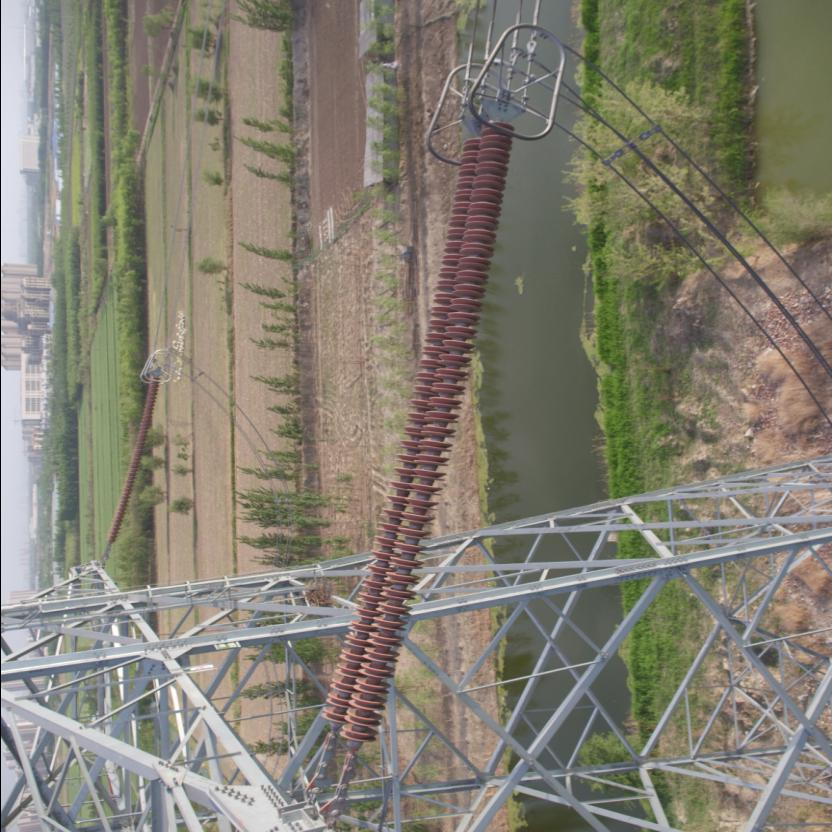insulator: (318, 113, 516, 774), (103, 378, 158, 544)
